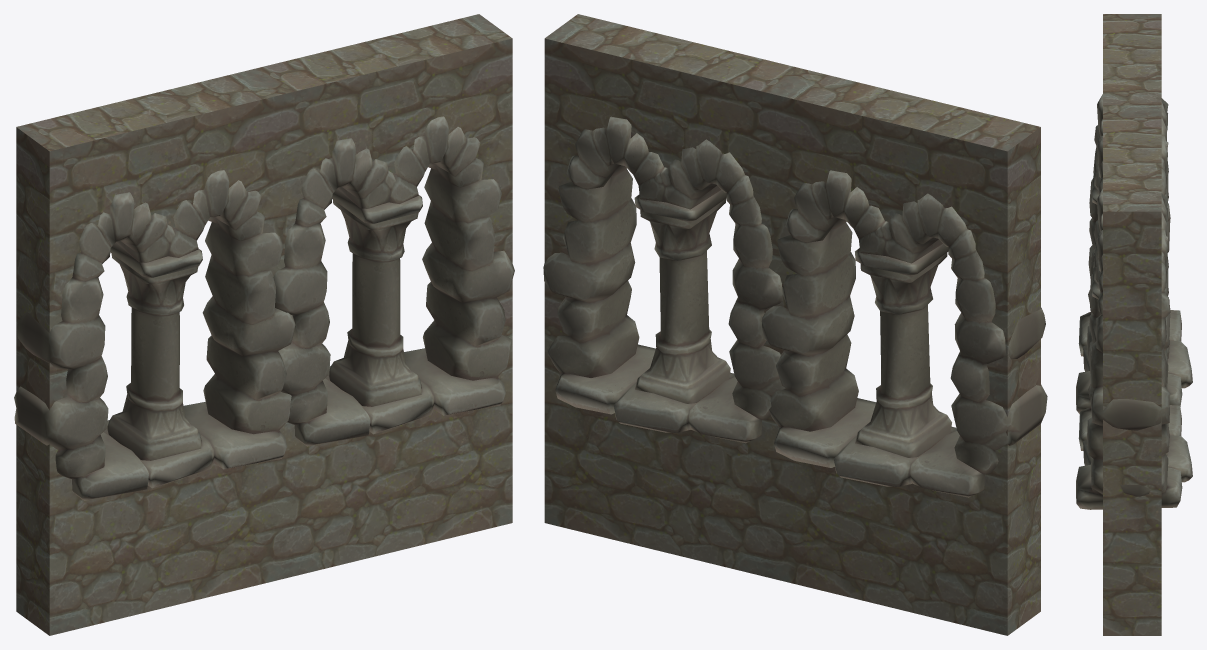
The model's file is SM_FW01_Ruins_Int_Window_B_4x4_01.fbx.
3 renders of one model, left to right at view 1: azimuth 30°, elevation 25°; view 2: azimuth 150°, elevation 25°; view 3: azimuth 270°, elevation 25°, orthographic. The views are drawn at different scales.
Visible parts, largest first — view 1: SM_FW01_Ruins_Int_Window_B_4x4_01, SM_FW01_Ruins_Int_Window_B_4x4_01_LOD0; view 2: SM_FW01_Ruins_Int_Window_B_4x4_01, SM_FW01_Ruins_Int_Window_B_4x4_01_LOD0; view 3: SM_FW01_Ruins_Int_Window_B_4x4_01, SM_FW01_Ruins_Int_Window_B_4x4_01_LOD0.
Part boxes in pixels (left/top/right/bottom): SM_FW01_Ruins_Int_Window_B_4x4_01: left=16, top=14, right=512, bottom=635; SM_FW01_Ruins_Int_Window_B_4x4_01_LOD0: left=14, top=116, right=514, bottom=500; SM_FW01_Ruins_Int_Window_B_4x4_01: left=544, top=14, right=1040, bottom=635; SM_FW01_Ruins_Int_Window_B_4x4_01_LOD0: left=543, top=116, right=1047, bottom=497; SM_FW01_Ruins_Int_Window_B_4x4_01: left=1103, top=14, right=1161, bottom=635; SM_FW01_Ruins_Int_Window_B_4x4_01_LOD0: left=1076, top=94, right=1192, bottom=509.
Size of what is drawn, in the model's own units: 4.06 by 4 by 0.9997.
